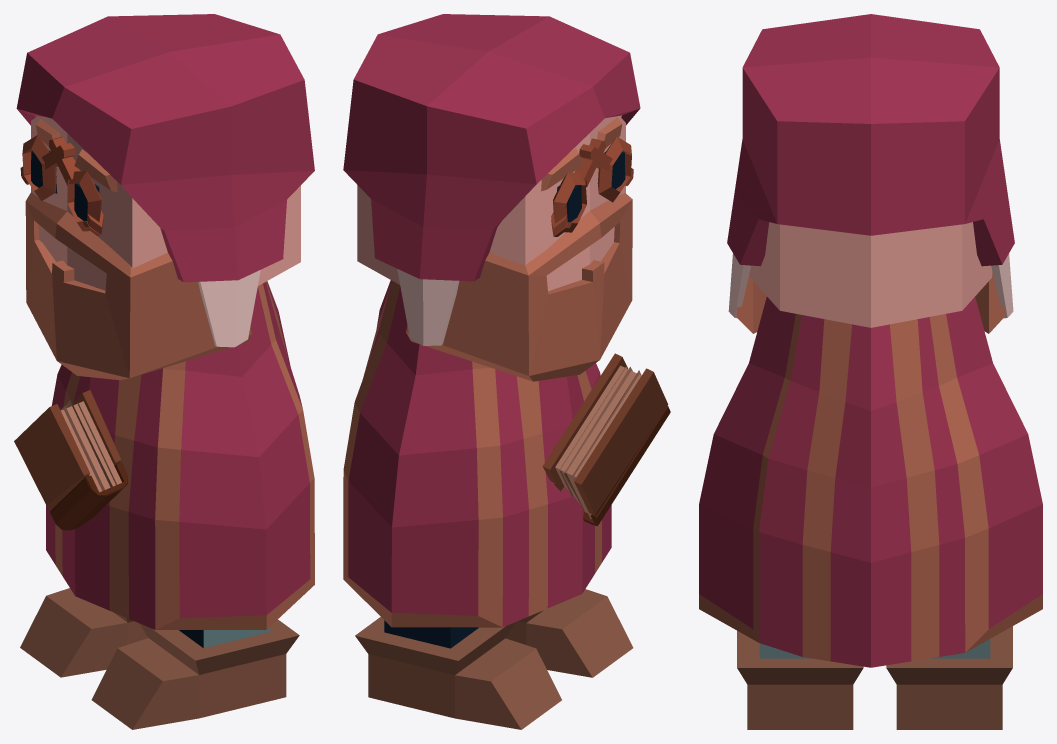
The model's file is SK_Librarian.fbx.
The picture shows the model from 3 angles, left to right: view 1: azimuth 30°, elevation 25°; view 2: azimuth 150°, elevation 25°; view 3: azimuth 270°, elevation 25°; orthographic projection. The views are drawn at different scales.
Visible parts, largest first — view 1: SK_Character.005; view 2: SK_Character.005; view 3: SK_Character.005.
Boxes of the visible parts, x1,y1,x2,y2 form: SK_Character.005: (14, 14, 314, 729); SK_Character.005: (343, 14, 670, 729); SK_Character.005: (699, 14, 1042, 729).
Bounding box in the file's own units: 61.07 × 132 × 63.84.
